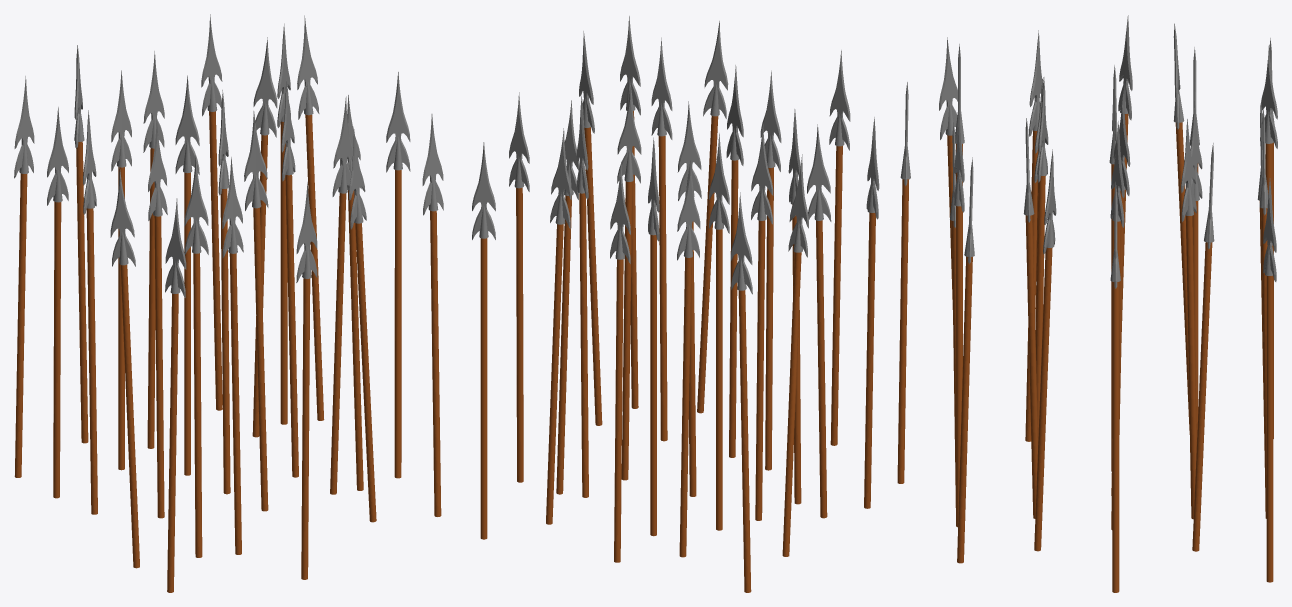
File: Speere textured.fbx
3 views of the same model, side by side, from view 1: azimuth 30°, elevation 25°; view 2: azimuth 150°, elevation 25°; view 3: azimuth 270°, elevation 25° (orthographic).
Visible parts, largest first — view 1: Cylinder.018; view 2: Cylinder.018; view 3: Cylinder.018.
Boxes of the visible parts, x1=… form: Cylinder.018: x1=14, y1=14, x2=443, y2=592; Cylinder.018: x1=472, y1=16, x2=910, y2=592; Cylinder.018: x1=939, y1=15, x2=1277, y2=592.
Bounding box in the file's own units: 904 × 1271 × 874.
